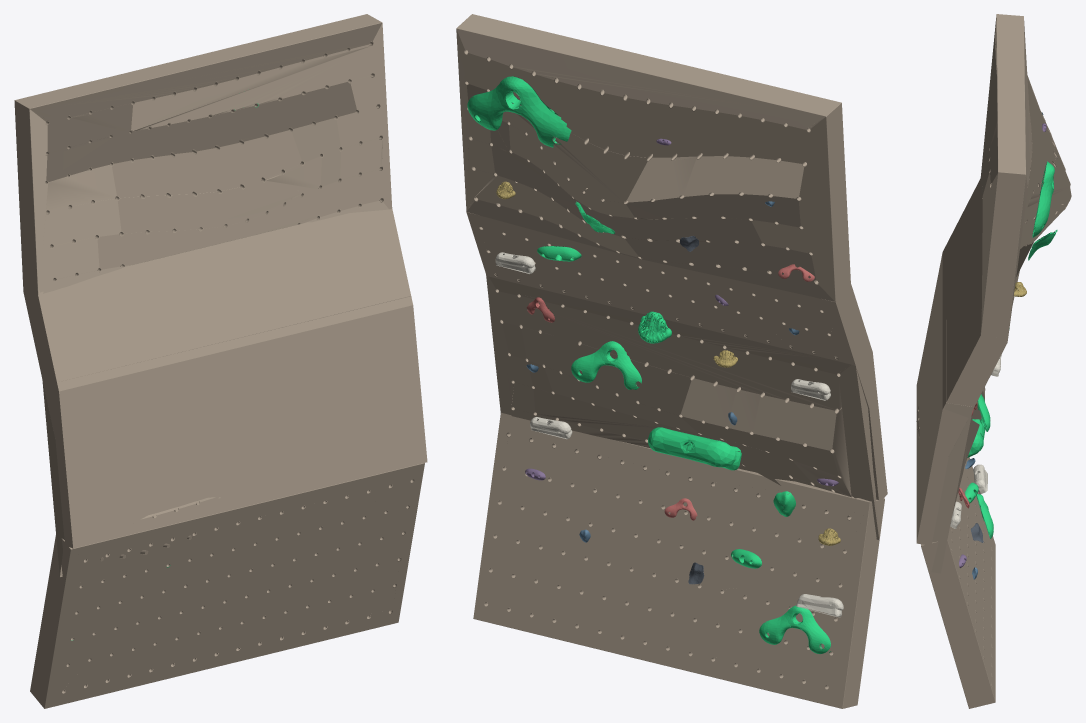
File: landing-wall-refined.glb
3 renders of one model, left to right at view 1: azimuth 30°, elevation 25°; view 2: azimuth 150°, elevation 25°; view 3: azimuth 270°, elevation 25°, orthographic. The views are drawn at different scales.
Parts seen in each view (by area): view 1: Wall; view 2: Wall, ActiveRoute_09, ActiveRoute_04, ActiveRoute_01, ActiveRoute_05, ActiveRoute_06, SecondaryHold_01; view 3: Wall, ActiveRoute_09, SecondaryHold_01, ActiveRoute_04, ActiveRoute_01, ActiveRoute_05, ActiveRoute_08.
Part boxes in pixels (box(x1,y1,x2,y2)): Wall: box(14, 14, 427, 708); Wall: box(456, 14, 887, 708); ActiveRoute_09: box(467, 76, 571, 147); ActiveRoute_04: box(648, 427, 741, 470); ActiveRoute_01: box(759, 605, 830, 653); ActiveRoute_05: box(571, 341, 641, 389); ActiveRoute_06: box(638, 311, 671, 343); SecondaryHold_01: box(796, 594, 843, 617); Wall: box(916, 14, 1071, 708); ActiveRoute_09: box(1032, 161, 1054, 237); SecondaryHold_01: box(973, 464, 987, 494); ActiveRoute_04: box(967, 418, 985, 457); ActiveRoute_01: box(976, 493, 993, 538); ActiveRoute_05: box(977, 394, 990, 431); ActiveRoute_08: box(1028, 230, 1057, 260).
Size of the model in its own units: 2.46 by 3.88 by 1.01.
